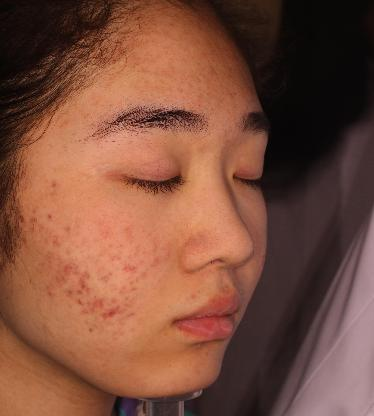Blackheads: (43, 211, 58, 223), (84, 323, 97, 336), (48, 179, 63, 190)
Papules: (99, 300, 122, 320)
